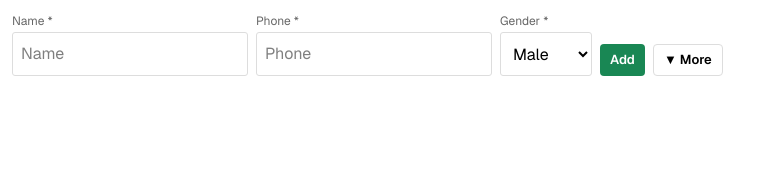
it: ContactForm › toggles optional fields visibility
Check: the field with placeholder "Area of stay" is not shown
# Click to show
What coordinates should you click on to do the following:
click the button "▼ More"
I would click on:
 (688, 60)
Its box is [653, 44, 723, 76].
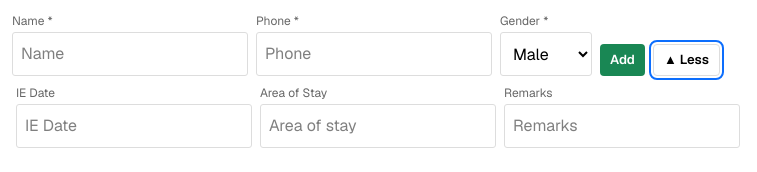
Check: the field with placeholder "Area of stay" is shown, box [260, 104, 496, 148]
Check: the field with placeholder "Remarks" is shown, box [504, 104, 740, 148]
Check: the button "▲ Less" is shown
# Click to hide
What coordinates should you click on to do the following:
click the button "▲ Less"
I would click on:
 (686, 60)
Its box is [653, 44, 720, 76].
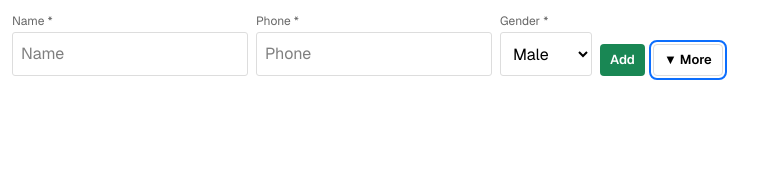
Check: the label with placeholder "Area of Stay" is gone
